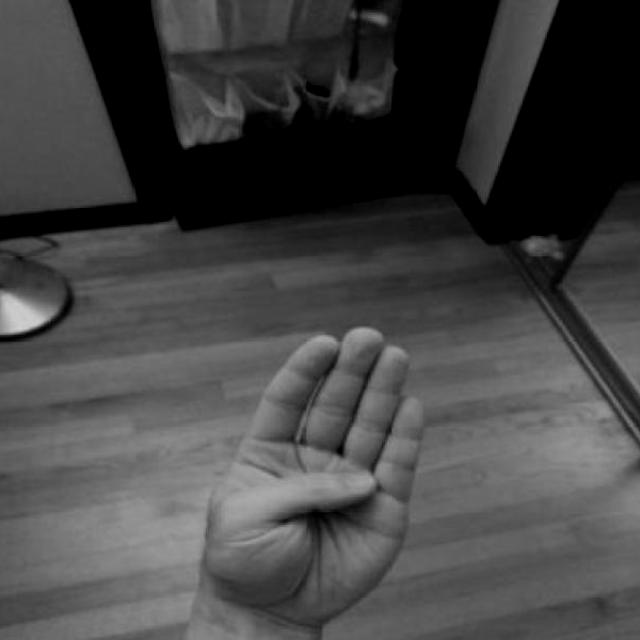B: (198, 323, 437, 635)
